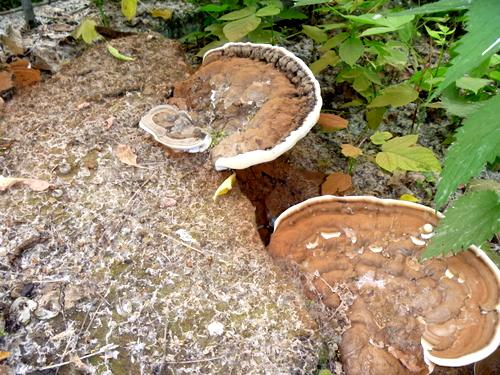Ganoderma - Fruit Body: (266, 192, 500, 367), (184, 42, 328, 172)
